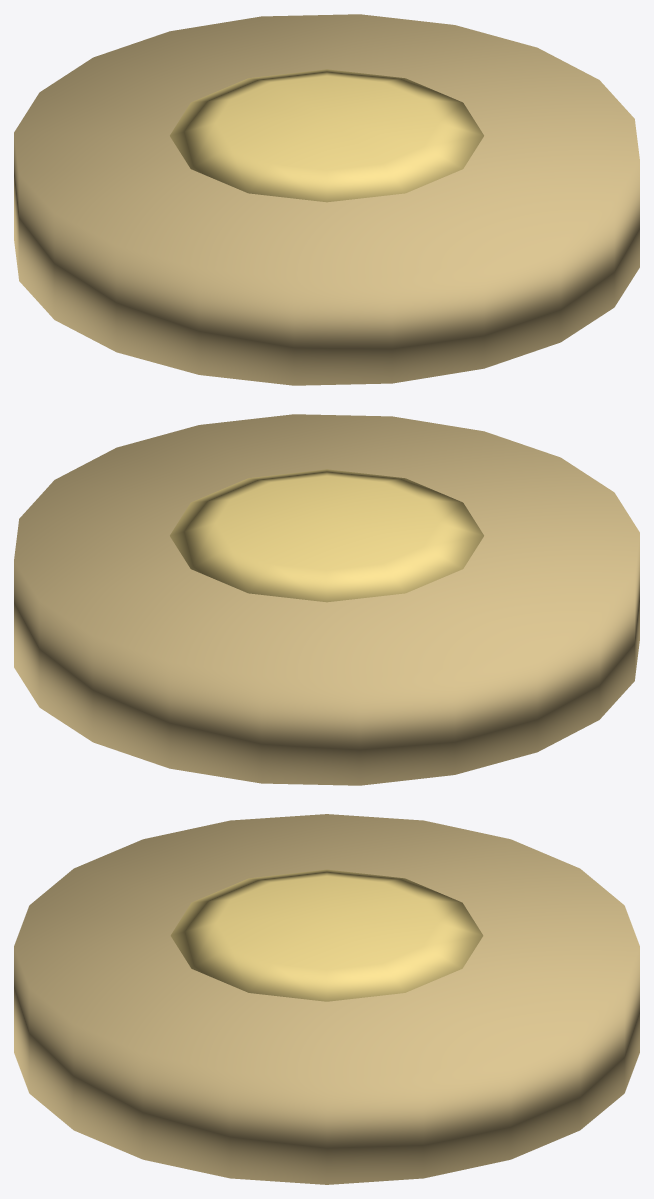
File: coin.glb
3 renders of one model, top to bottom at view 1: azimuth 30°, elevation 25°; view 2: azimuth 150°, elevation 25°; view 3: azimuth 270°, elevation 25°, orthographic.
Bounding box in the file's own units: 0.24 × 0.057 × 0.24.
